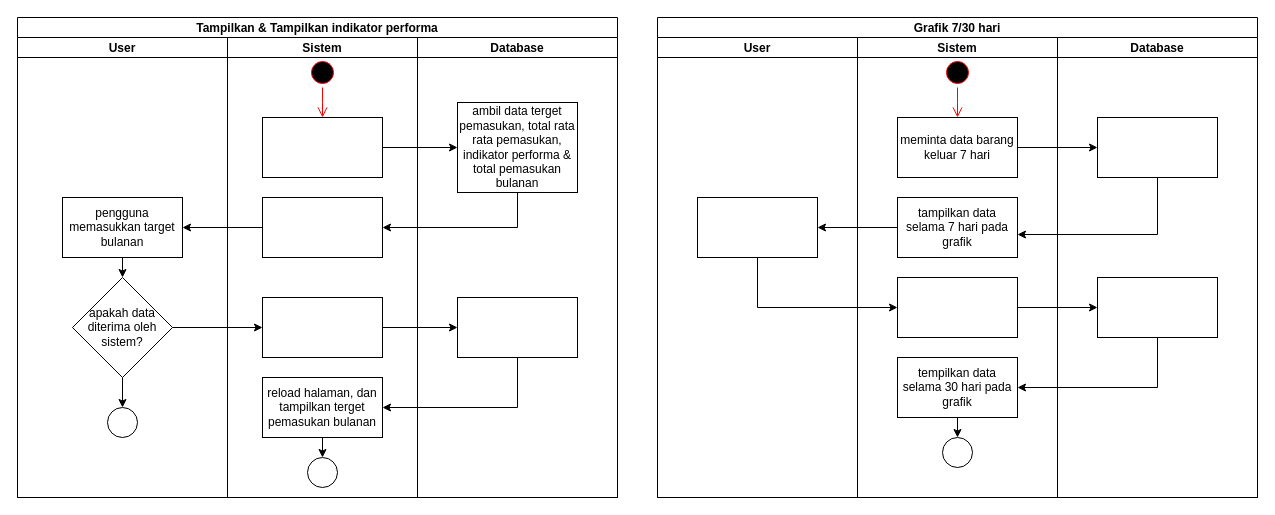
The diagram is 1275 pixels wide and 515 high, and some of its shapes have lost their labels. The box of each missing label's shape, as (x1, y1, x2, y2) in pixels:
ambil data barang keluar selama 30 hari: (1096, 276, 1218, 338)
ambil data barang keluar selama7 hari: (1096, 116, 1218, 178)
ambil data terget pemasukan: (262, 116, 382, 178)
masukkan data target bulanan: (456, 296, 578, 358)
meminta data barang keluar selama 30 hari: (896, 276, 1018, 338)
pengguna menekan tombol 30 hari: (696, 196, 818, 258)
proses data yang di masukkan oleh pengguna: (262, 296, 382, 358)
tampilkan data yang telah diambil: (262, 196, 382, 258)
